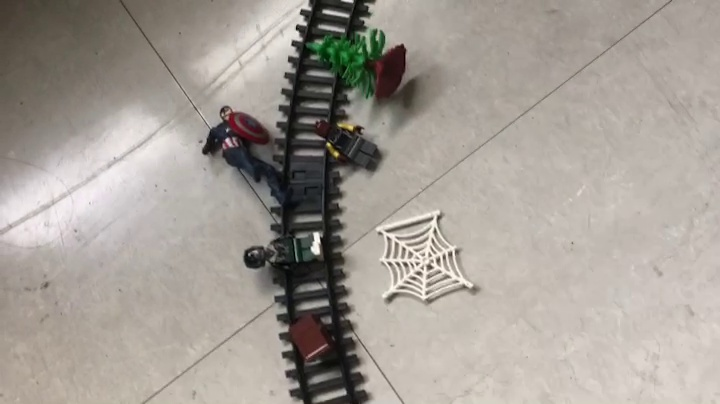box: (287, 314, 336, 363)
people: (202, 105, 297, 207), (244, 231, 325, 274), (314, 119, 379, 172)
tree: (307, 28, 413, 109)
web: (375, 210, 476, 306)
